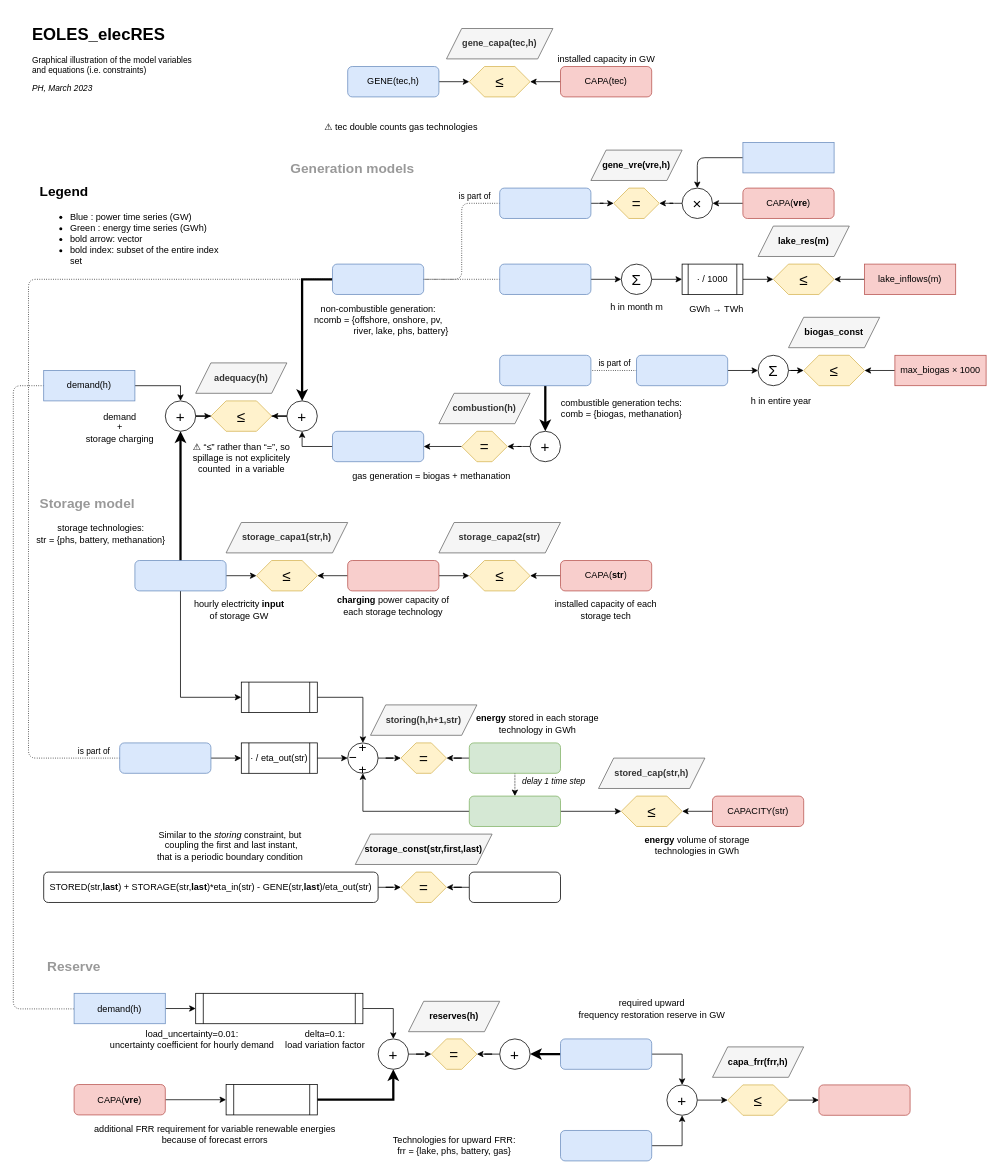
This 999x1174 diagram has some shape labels left out. Here are the shapes that lost their labels. From the top down, the box of each, then its label:
(742, 142, 834, 173): load_factor(vre,h)
(499, 187, 591, 218): GENE( vre ,h)
(332, 263, 424, 294): GENE( ncomb ,h)
(499, 263, 591, 294): GENE( lake ,h)
(499, 355, 591, 386): GENE( comb ,h)
(636, 355, 728, 386): GENE( biogas ,h)
(332, 431, 424, 462): GENE( gas ,h)
(134, 560, 226, 591): STORAGE(str,h)
(347, 560, 439, 591): S(str)
(241, 681, 317, 712): · × eta_in(str)
(119, 742, 211, 773): GENE( str ,h)
(469, 742, 560, 773): STORED(str,h+1)
(469, 795, 560, 826): STORED(str,h)
(469, 871, 560, 902): STORED(str, first )
(195, 993, 363, 1024): · × load_uncertainty × (1+delta)
(560, 1038, 652, 1069): RSV( frr ,h)
(225, 1084, 317, 1115): · × epsilon(vre)
(818, 1084, 910, 1115): CAPA( frr )
(560, 1130, 652, 1161): GENE( frr ,h)
